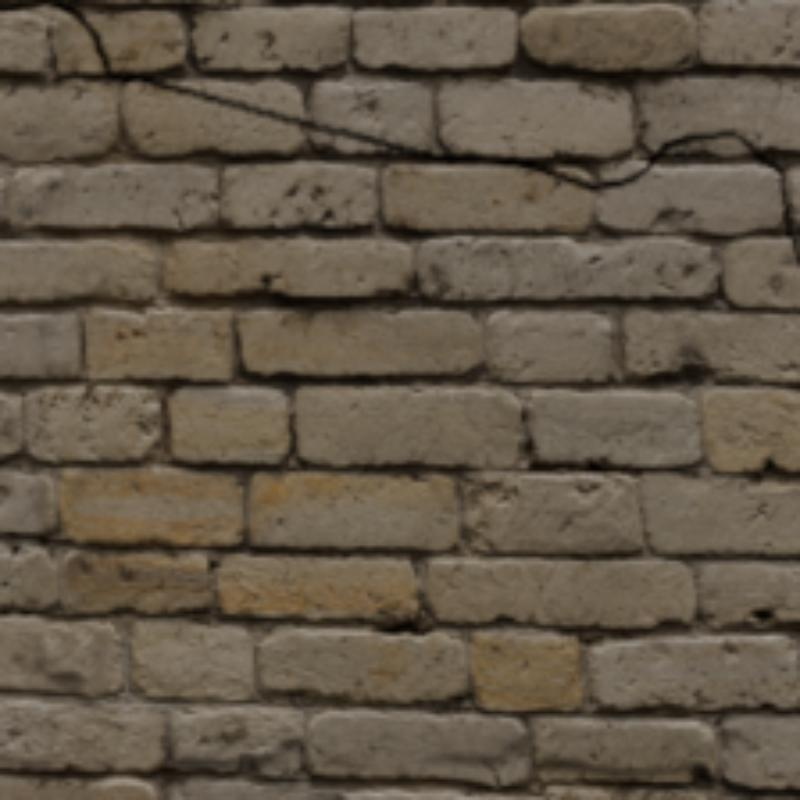pothole: (2, 1, 763, 187), (765, 159, 799, 262)
